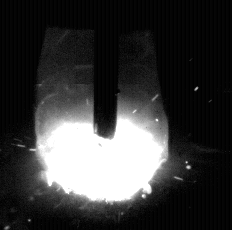arame: (94, 0, 118, 139)
poca: (36, 0, 169, 230)
